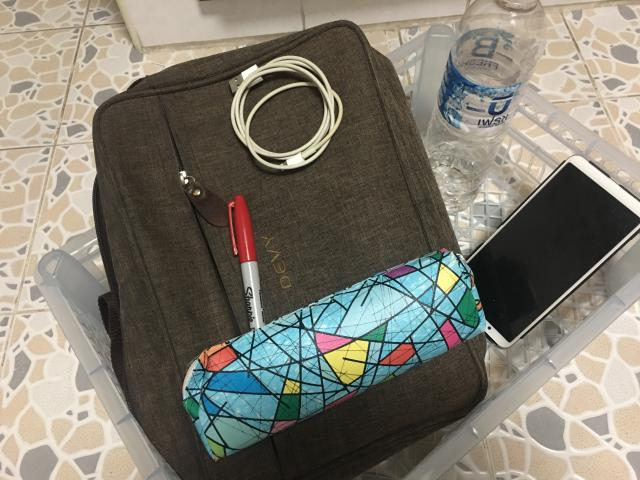Mobile phone: (468, 155, 640, 348)
Pen: (228, 195, 265, 329)
bottle: (424, 0, 546, 212)
wire: (229, 55, 342, 170)
